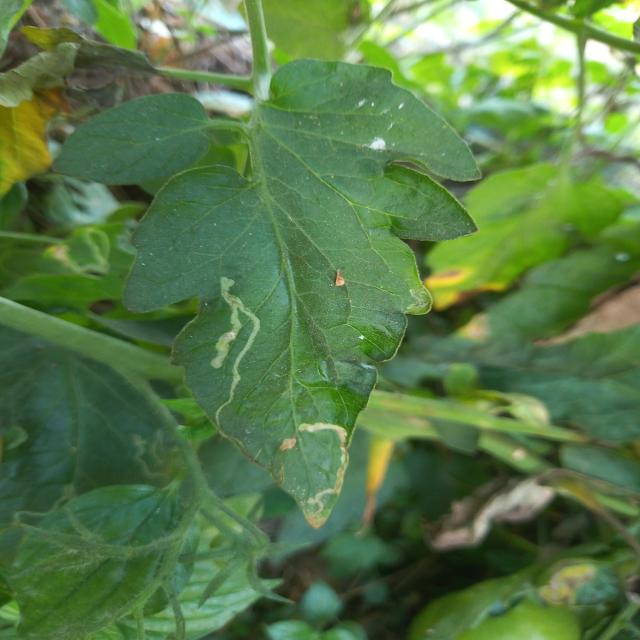Tuta absoluta: (205, 276, 265, 425), (296, 420, 355, 529)
